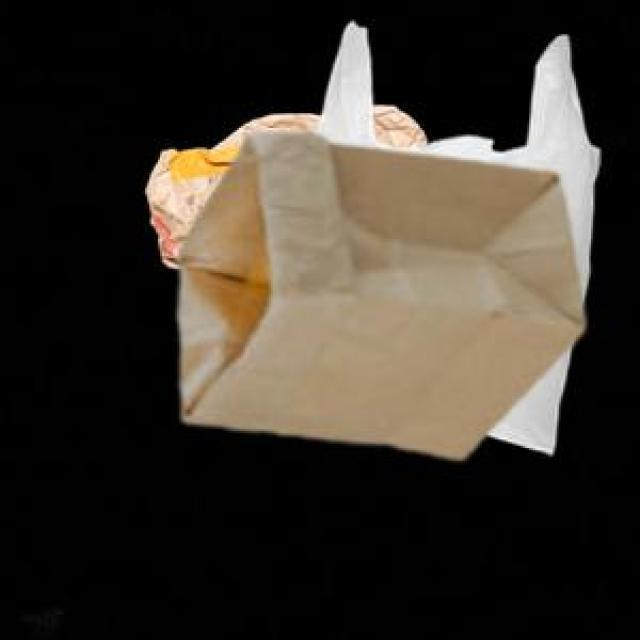paper: (175, 128, 580, 454), (141, 102, 422, 265)
